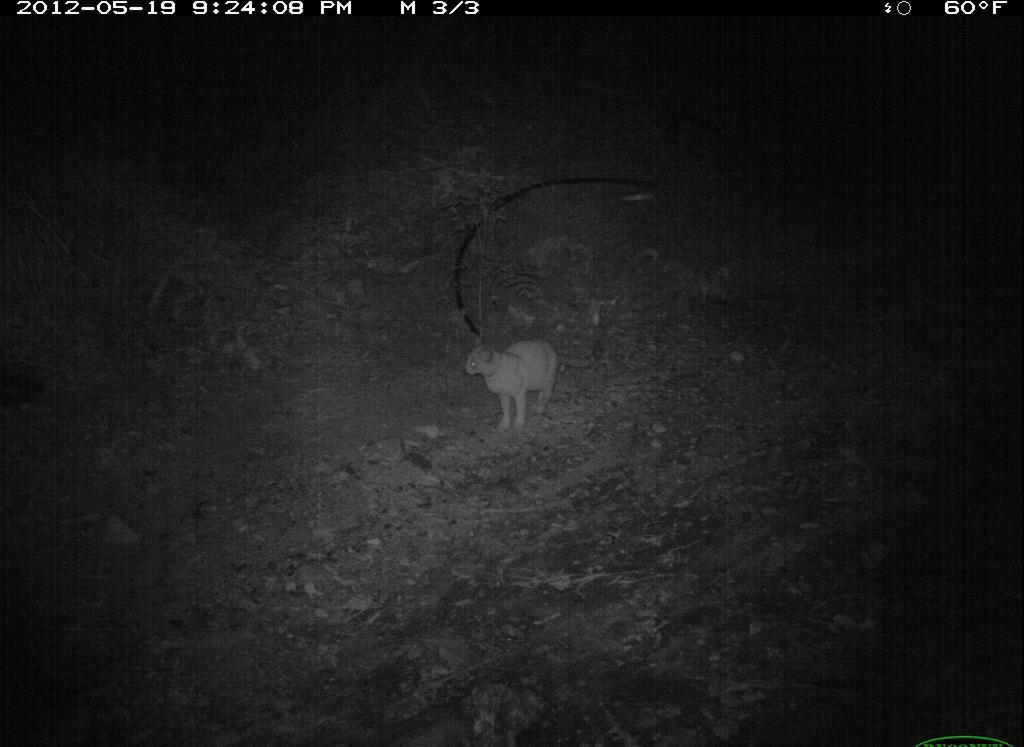cat: (438, 327, 588, 438)
